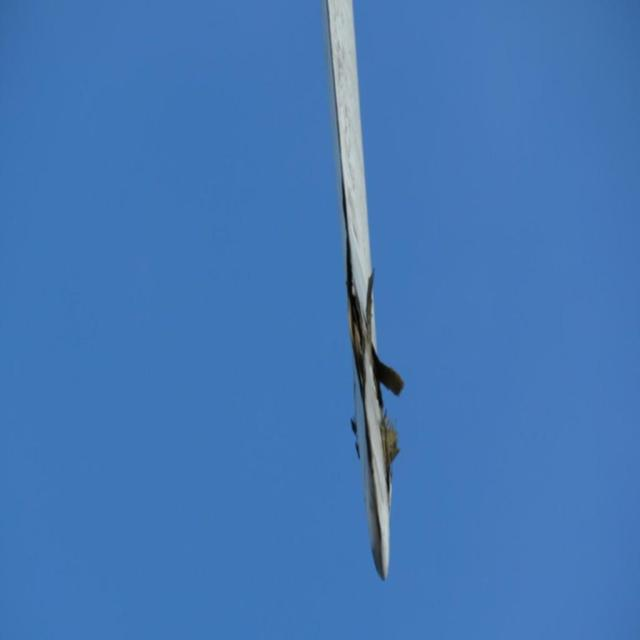crack: (339, 252, 408, 488)
